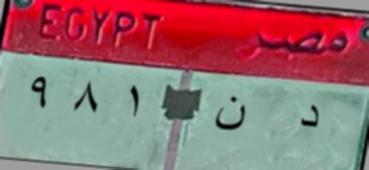1: (119, 80, 150, 124)
8: (63, 78, 107, 124)
9: (22, 74, 54, 116)
daal: (290, 100, 322, 134)
noon: (208, 93, 259, 146)
